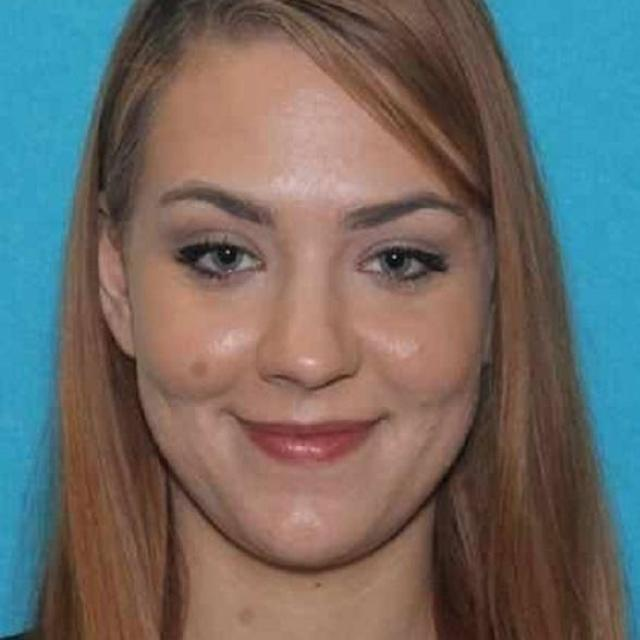human: (40, 3, 546, 640)
